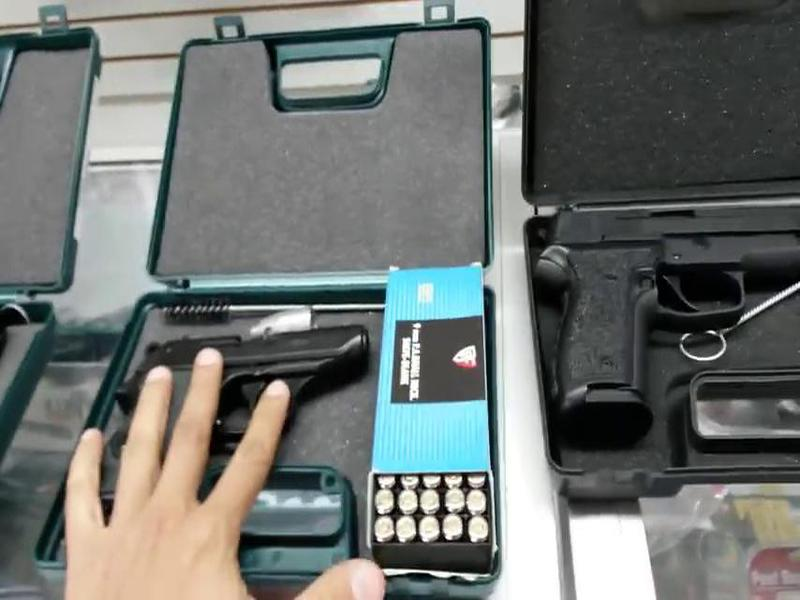Pistola: (546, 181, 800, 432), (112, 299, 389, 511)
